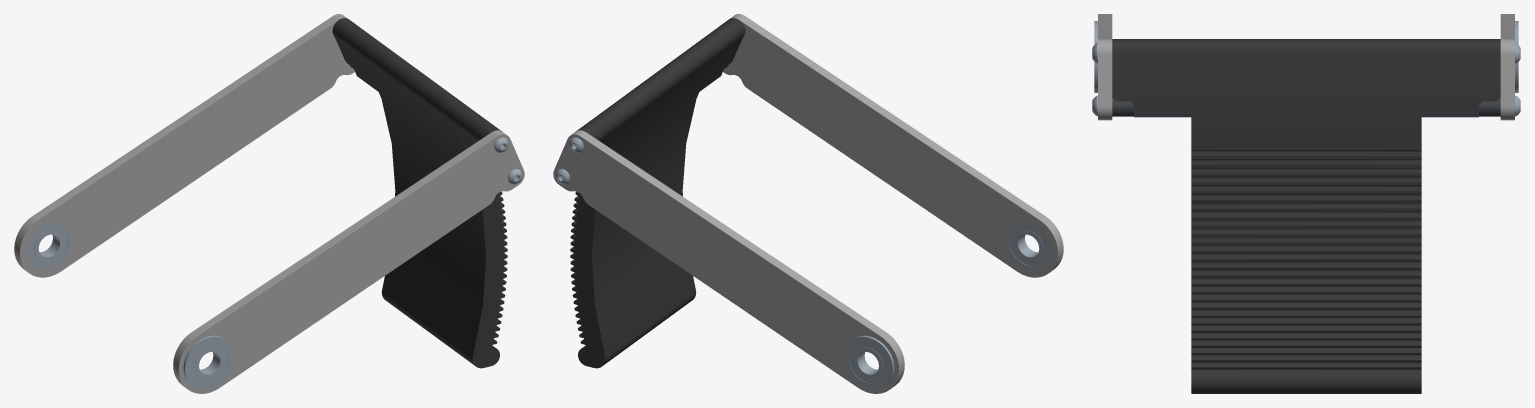
3 views of the same model, side by side, from view 1: azimuth 30°, elevation 25°; view 2: azimuth 150°, elevation 25°; view 3: azimuth 270°, elevation 25° (orthographic). The views are drawn at different scales.
Parts seen in each view (by area): view 1: 26G0403, 26G0401, Socket button head cap screw #10-32 x 1; view 2: 26G0403, 26G0401, Socket button head cap screw #10-32 x 1; view 3: 26G0401, 26G0403, 3/8" Long #10 3/8" Spacer, Socket button head cap screw #10-32 x 1.
Boxes of the visible parts, box(x1,y1,x2,y2) form: 26G0403: box(14, 14, 524, 393); 26G0401: box(332, 18, 507, 368); Socket button head cap screw #10-32 x 1: box(27, 137, 522, 389); 26G0403: box(553, 14, 1063, 393); 26G0401: box(570, 18, 745, 368); Socket button head cap screw #10-32 x 1: box(555, 137, 1050, 389); 26G0401: box(1112, 39, 1500, 393); 26G0403: box(1098, 14, 1514, 120); 3/8" Long #10 3/8" Spacer: box(1112, 98, 1500, 117); Socket button head cap screw #10-32 x 1: box(1092, 21, 1520, 116).
Bounding box in the file's own units: 0.2362 × 0.1637 × 0.1893.
